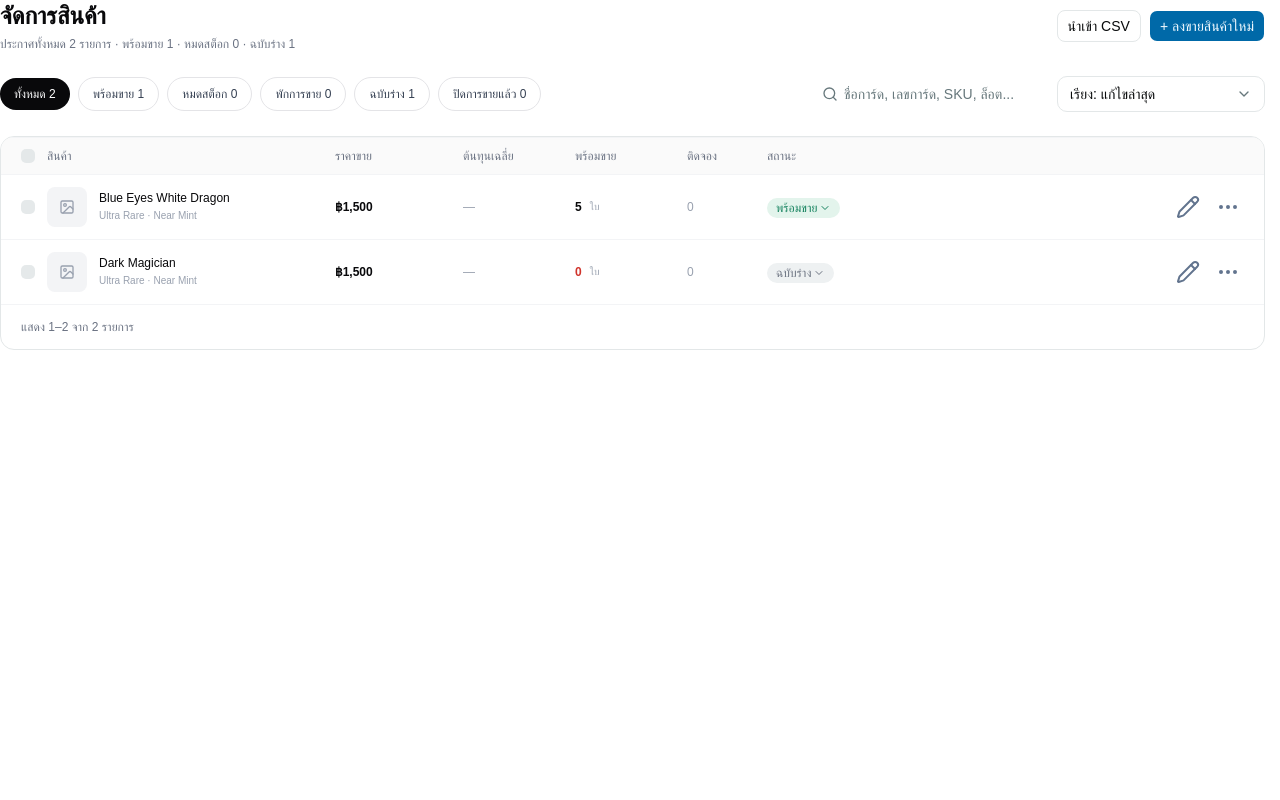
Test: ProductsContent Integration › deletes a listing after confirming
This screenshot has width=1280, height=800.
Click the button named "ตัวเลือกเพิ่มเติม: Dark Magician": click(1228, 272) top-left (1212, 256), bottom-right (1244, 288)
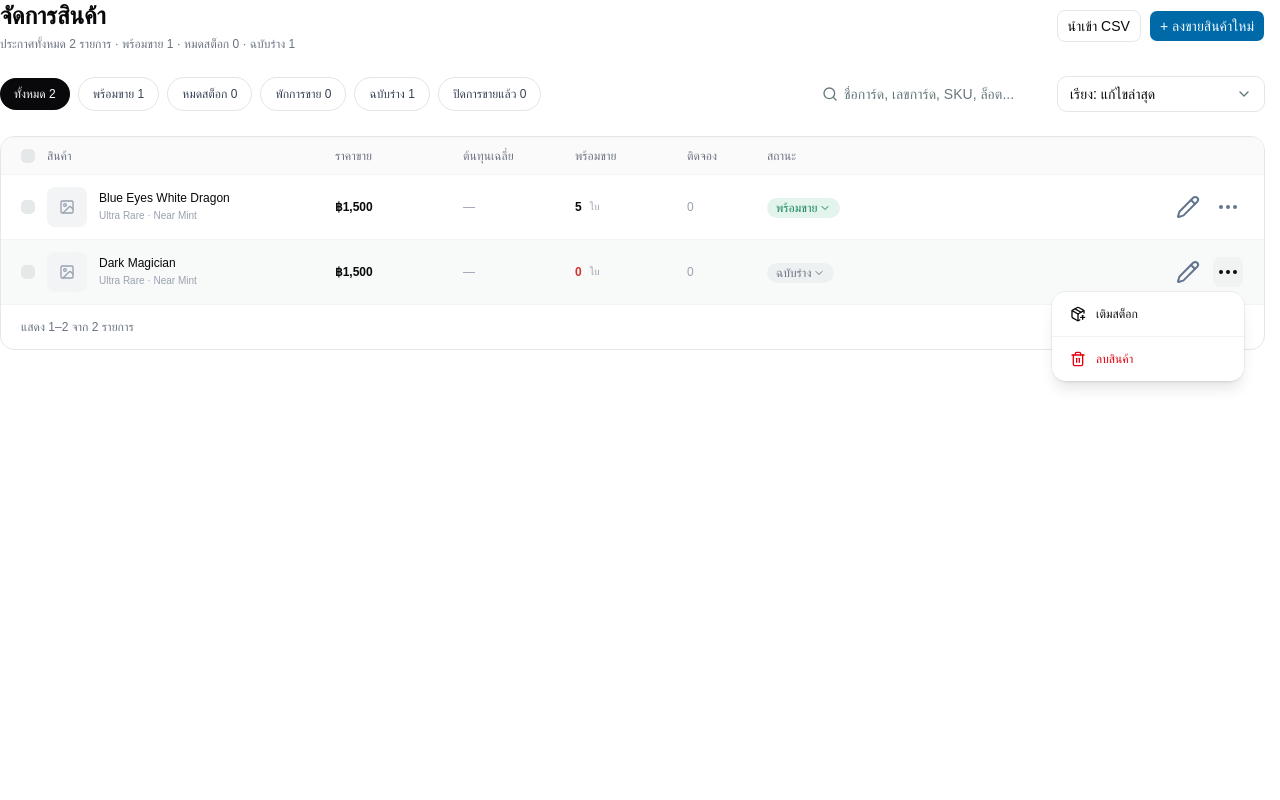
Click the menu item "ลบสินค้า": click(1102, 359) top-left (1070, 351), bottom-right (1133, 367)
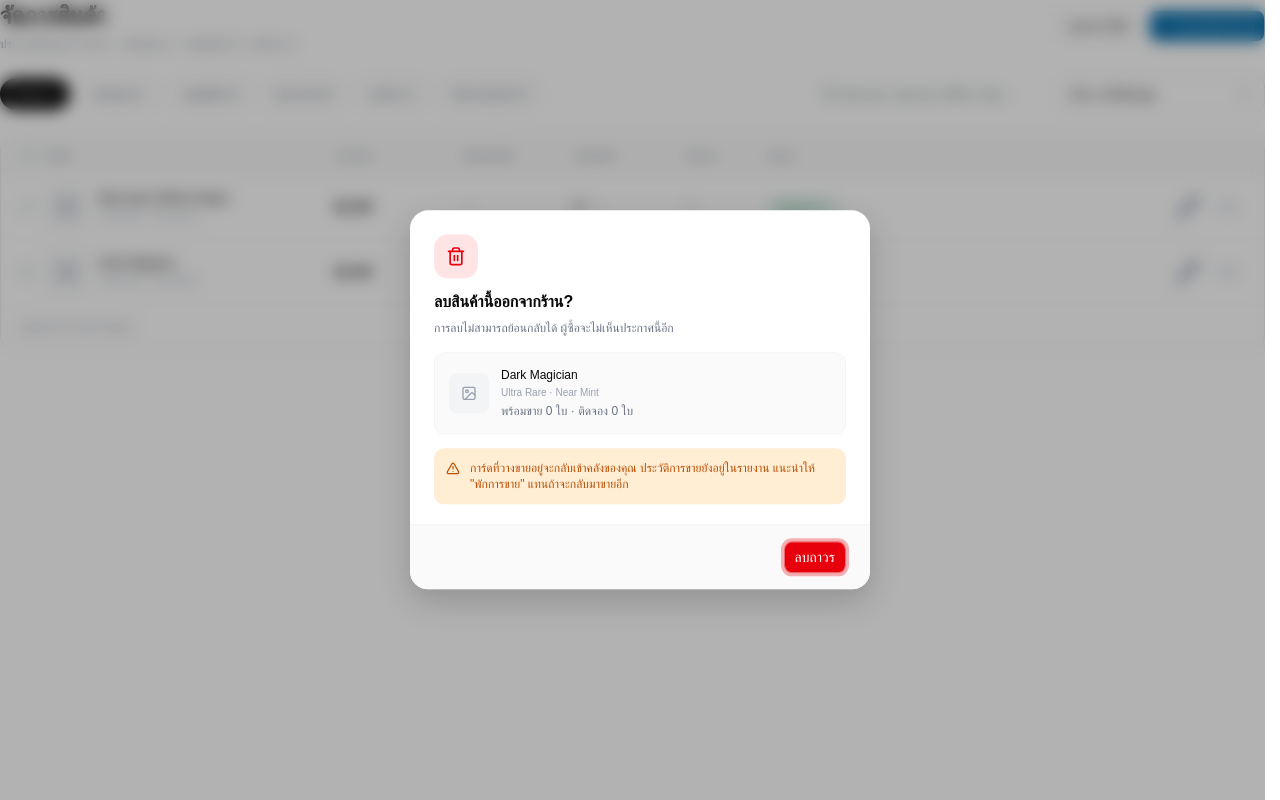
Now the heading "ลบสินค้านี้ออกจากร้าน?" is shown, box top-left (434, 293), bottom-right (573, 310)
Click the button "ลบถาวร": click(815, 558) top-left (784, 542), bottom-right (846, 574)
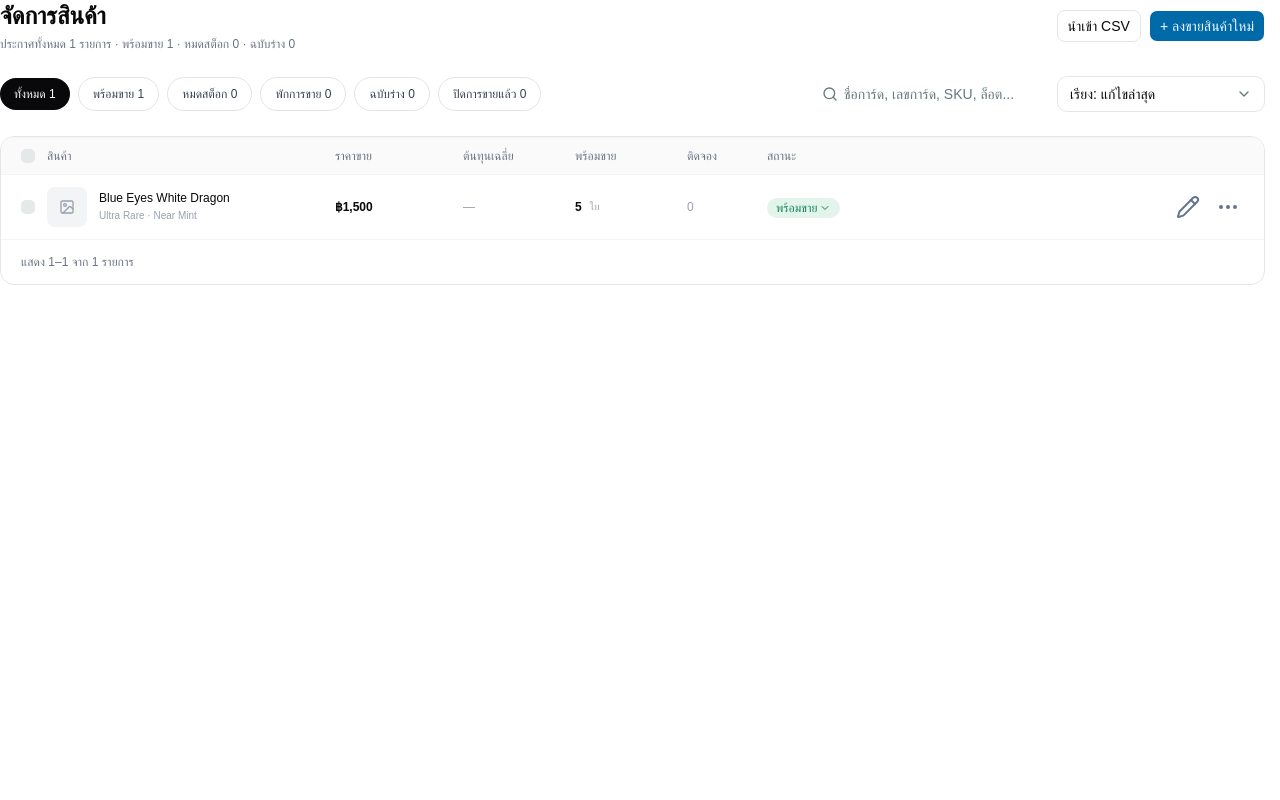
Expected: the text "Blue Eyes White Dragon" is shown, top-left (99, 190), bottom-right (230, 206)
Now the text "Dark Magician" is gone
